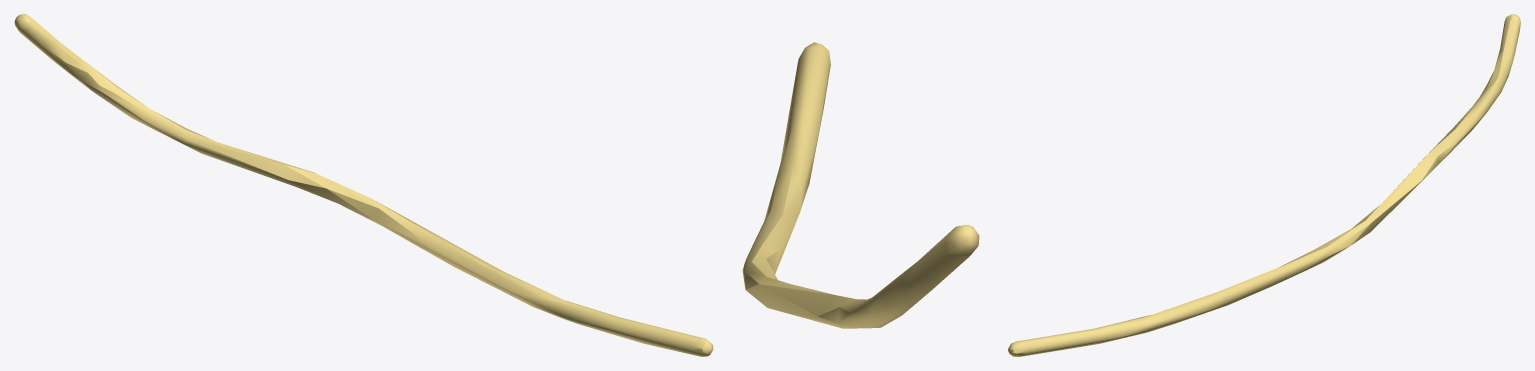
Rendered from fma82735_fj1318.glb.
3 renders of one model, left to right at view 1: azimuth 30°, elevation 25°; view 2: azimuth 150°, elevation 25°; view 3: azimuth 270°, elevation 25°, orthographic. The views are drawn at different scales.
Parts seen in each view (by area): view 1: FMA82735_FJ1318; view 2: FMA82735_FJ1318; view 3: FMA82735_FJ1318.
Part boxes in pixels (x1,y1,x2,y2): FMA82735_FJ1318: [14, 14, 713, 356]; FMA82735_FJ1318: [742, 42, 979, 328]; FMA82735_FJ1318: [1008, 14, 1520, 356].
Size of the model in its own units: 0.0119 by 0.00636 by 0.0158.
